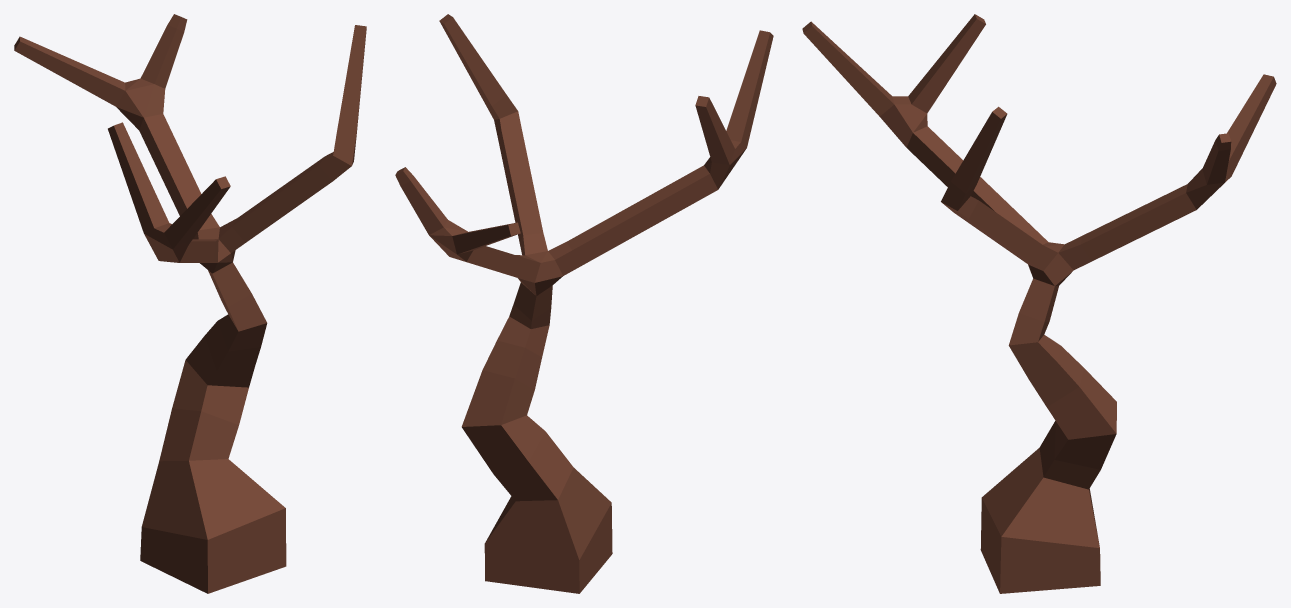
The model's file is tree1.fbx.
3 renders of one model, left to right at view 1: azimuth 30°, elevation 25°; view 2: azimuth 150°, elevation 25°; view 3: azimuth 270°, elevation 25°, orthographic. The views are drawn at different scales.
Visible parts, largest first — view 1: tree1; view 2: tree1; view 3: tree1.
Part boxes in pixels (x1,y1,x2,y2): tree1: (14,14,366,593); tree1: (395,14,773,593); tree1: (802,14,1276,593).
Size of the model in its own units: 2.18 by 4.09 by 3.38.
